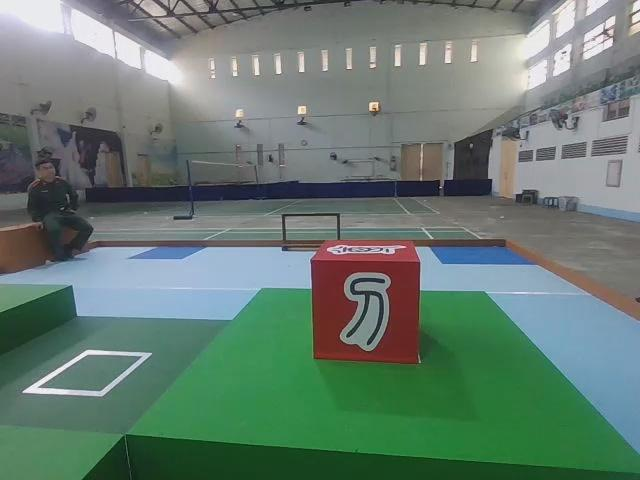R2 Fake: (307, 238, 423, 367)
